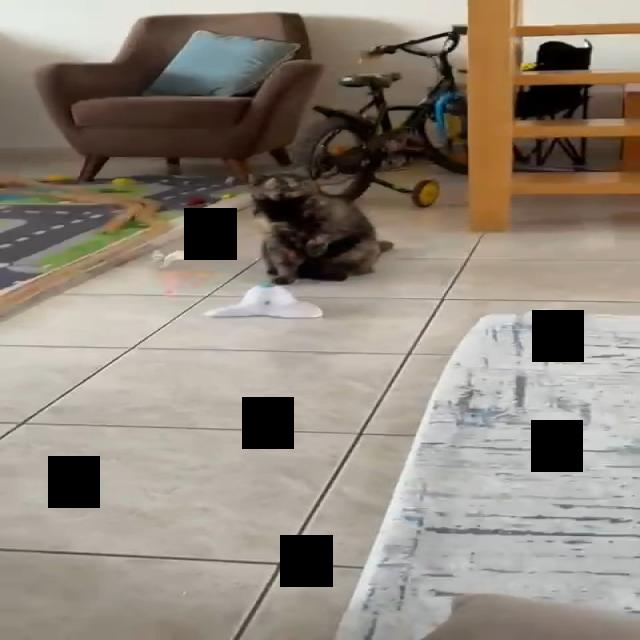authorized: (250, 188, 394, 285)
